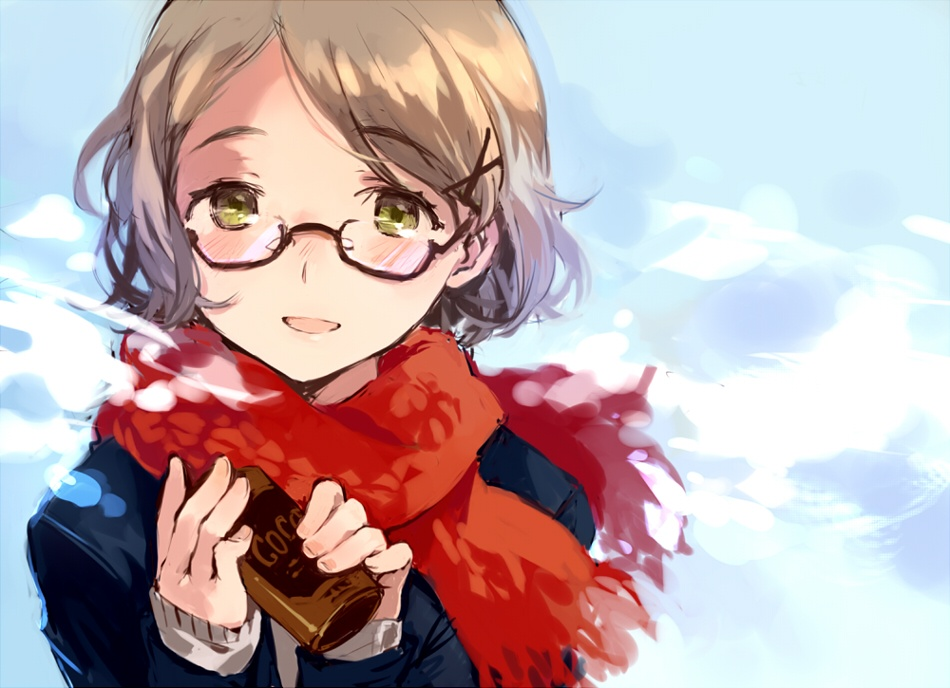纸片人正脸: (106, 1, 549, 389)
